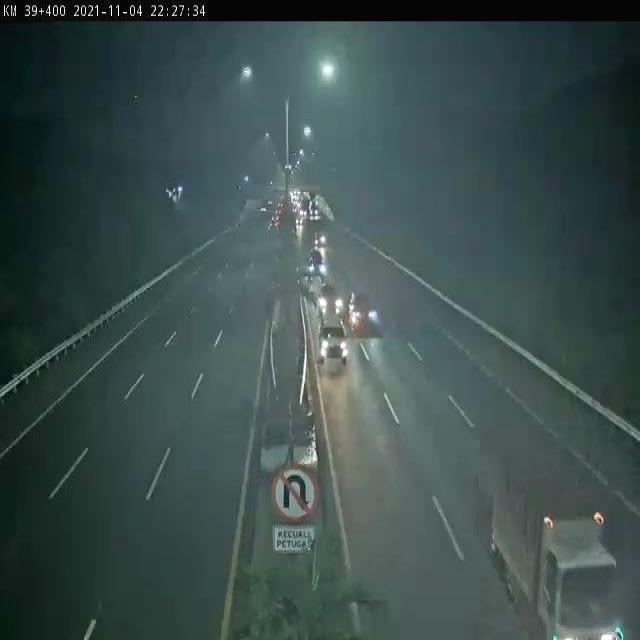Car: (318, 313, 350, 367), (318, 282, 344, 311)
Truck: (474, 421, 627, 640), (308, 199, 319, 216)
